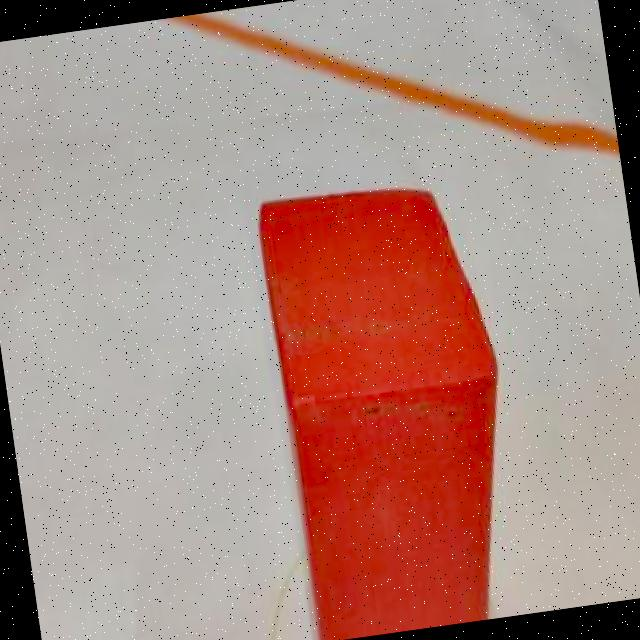redbox: (250, 170, 532, 640)
